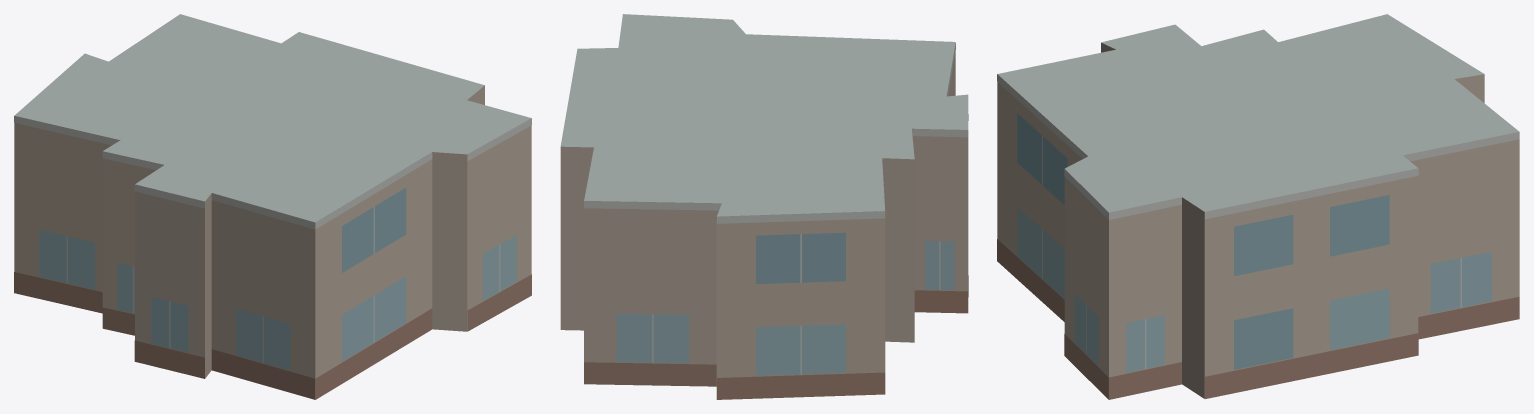
The model's file is survey-upis-32478682.glb.
3 views of the same model, side by side, from view 1: azimuth 30°, elevation 25°; view 2: azimuth 150°, elevation 25°; view 3: azimuth 270°, elevation 25° (orthographic). The views are drawn at different scales.
Parts seen in each view (by area): view 1: survey-upis-32478682.tmp; view 2: survey-upis-32478682.tmp; view 3: survey-upis-32478682.tmp.
Part boxes in pixels (<box>): survey-upis-32478682.tmp: <box>14,14,531,399</box>; survey-upis-32478682.tmp: <box>560,14,968,399</box>; survey-upis-32478682.tmp: <box>997,14,1519,399</box>.
Size of the model in its own units: 13.89 by 6.1 by 15.44.
